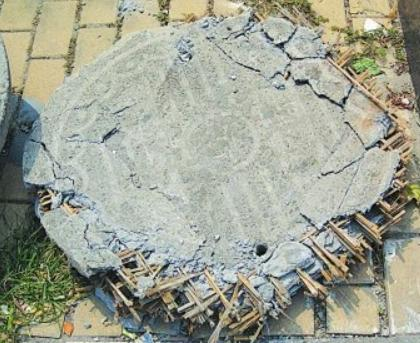wellcover: (41, 20, 400, 330)
